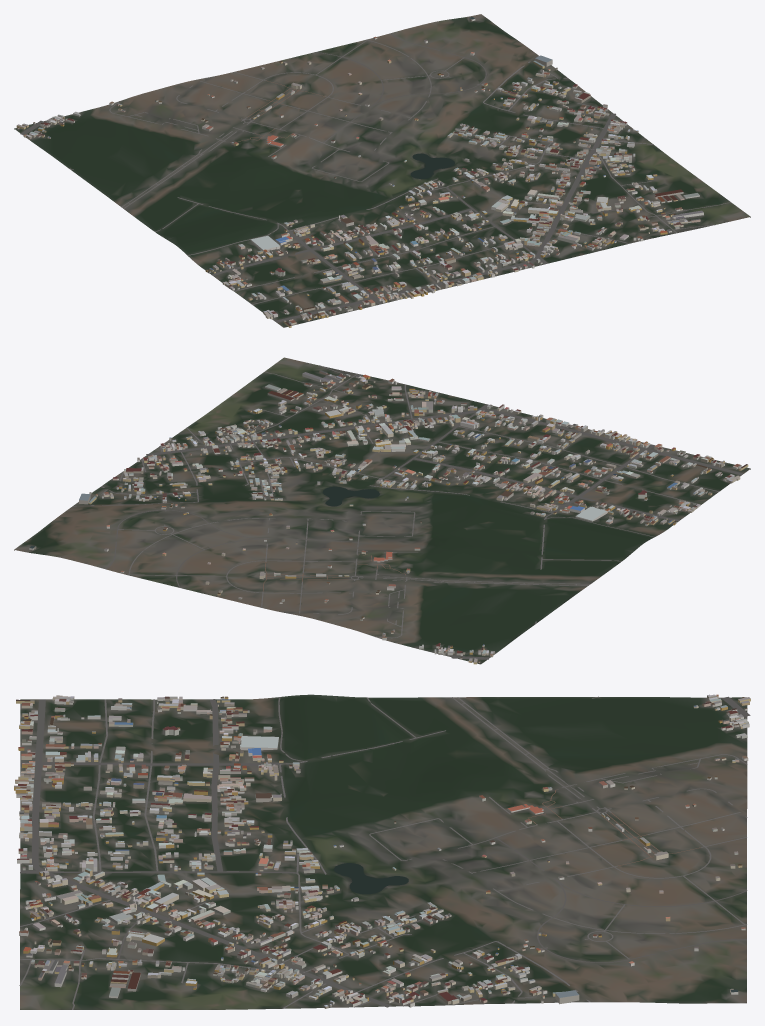
3 views of the same model, one above another, from view 1: azimuth 30°, elevation 25°; view 2: azimuth 150°, elevation 25°; view 3: azimuth 270°, elevation 25° (orthographic). The views are drawn at different scales.
Visible parts, largest first — view 1: ground, buildings, roads, water; view 2: ground, buildings, roads, water; view 3: ground, buildings, roads, water.
Boxes of the visible parts, x1,y1,x2,y2 form: ground: (14, 14, 750, 327); buildings: (16, 17, 703, 327); roads: (20, 33, 730, 322); water: (410, 153, 454, 179); ground: (14, 357, 750, 664); buildings: (29, 370, 748, 664); roads: (72, 365, 743, 659); water: (322, 486, 379, 506); ground: (20, 694, 747, 1009); buildings: (14, 694, 750, 1008); roads: (19, 696, 750, 1009); water: (334, 863, 408, 894).
Bounding box in the file's own units: 1413 × 33.5 × 1420.
